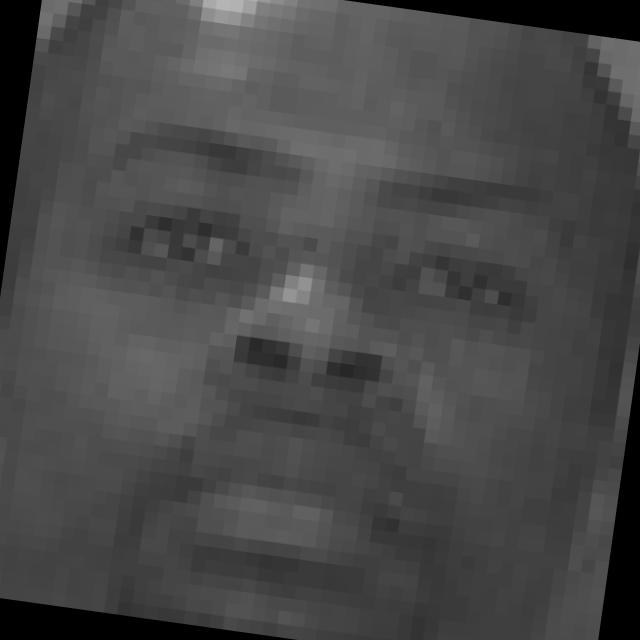neutral: (28, 104, 576, 626)
